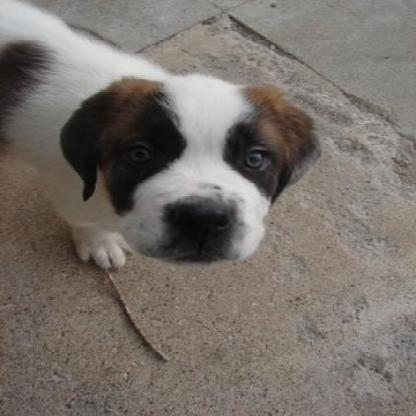Saint_Bernard: (0, 0, 321, 268)
